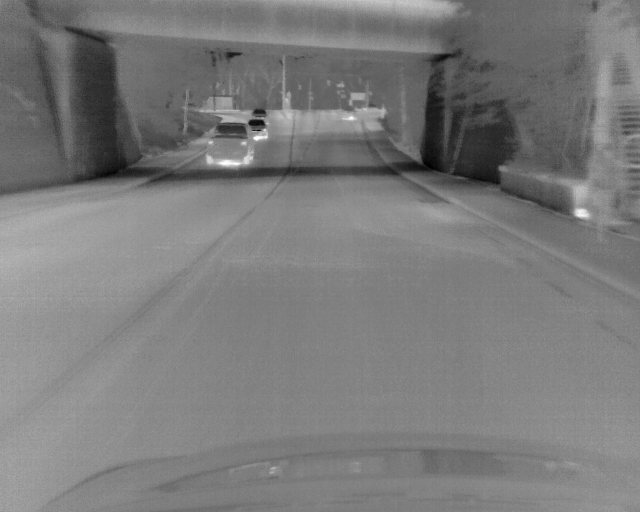car: (203, 120, 254, 167), (248, 118, 269, 142), (339, 105, 356, 120), (250, 108, 266, 117)
people: (583, 137, 622, 244)
